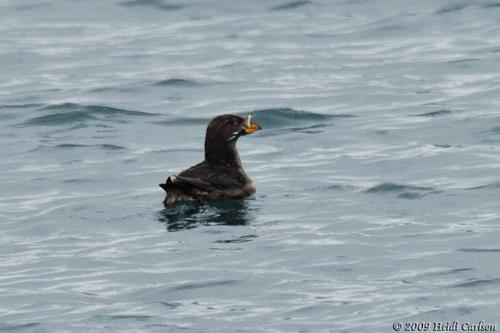008.Rhinoceros_Auklet: (158, 111, 263, 208)
